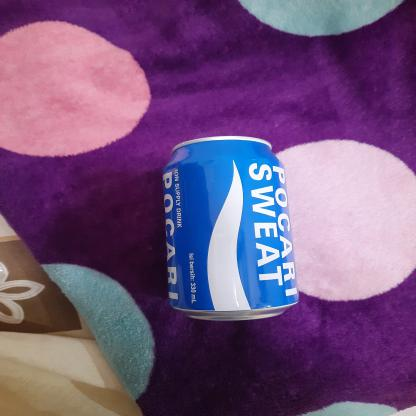bottle: (158, 133, 307, 323)
